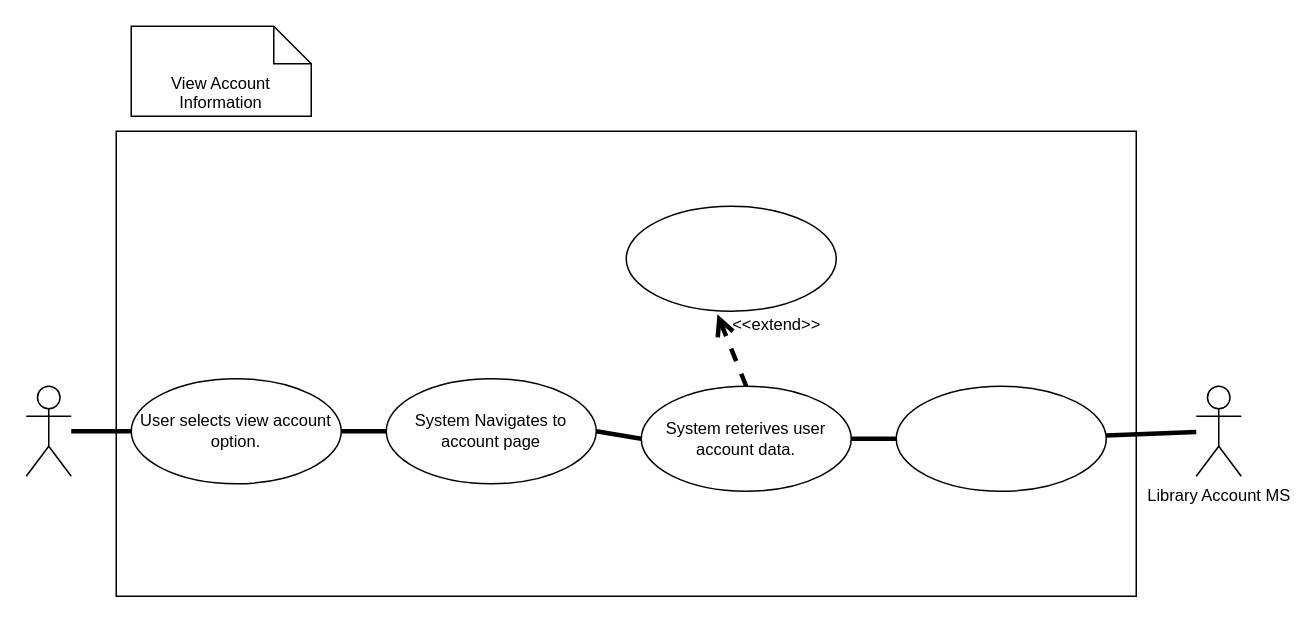
Some shapes in this 1316 by 623 pixel diagram are drawn without their labels. Each missing label, with the centre of its shape:
Display account information on page to user.: point (1000, 438)
Inform user of Error reteriving account data.: point (730, 258)
User: point (48, 430)
